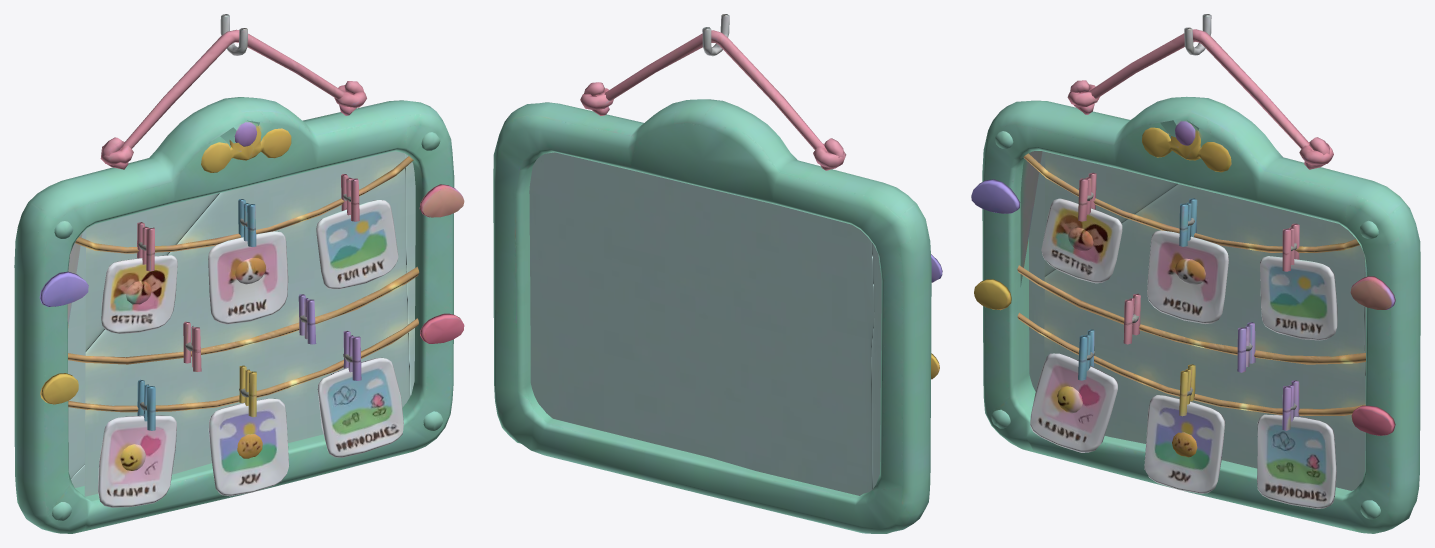
File: studio-polaroid-wall.glb
3 renders of one model, left to right at view 1: azimuth 30°, elevation 25°; view 2: azimuth 150°, elevation 25°; view 3: azimuth 330°, elevation 25°, orthographic.
Visible parts, largest first — view 1: geometry_0; view 2: geometry_0; view 3: geometry_0.
Boxes of the visible parts, <box> form: geometry_0: <box>14,14,464,533</box>; geometry_0: <box>493,14,942,533</box>; geometry_0: <box>971,14,1420,533</box>.
Bounding box in the file's own units: 0.9569 × 1 × 0.1371.
1 material, 1 textured.
